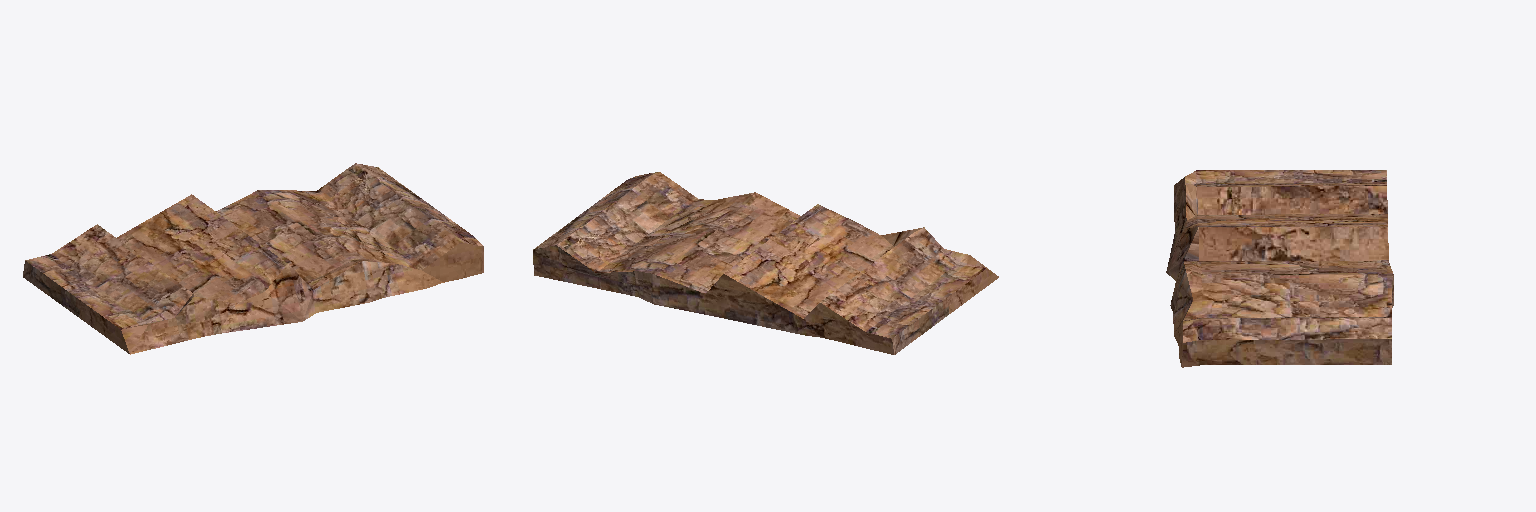
The picture shows the model from 3 angles: view 1: azimuth 30°, elevation 25°; view 2: azimuth 150°, elevation 25°; view 3: azimuth 270°, elevation 25°; orthographic projection.
Parts seen in each view (by area): view 1: Plane; view 2: Plane; view 3: Plane.
Part boxes in pixels (x1,y1,x2,y2): Plane: (23,163,483,354); Plane: (533,172,998,354); Plane: (1166,170,1393,367).
Size of the model in its own units: 29.35 by 3.81 by 16.08.
1 materials, 1 textured.